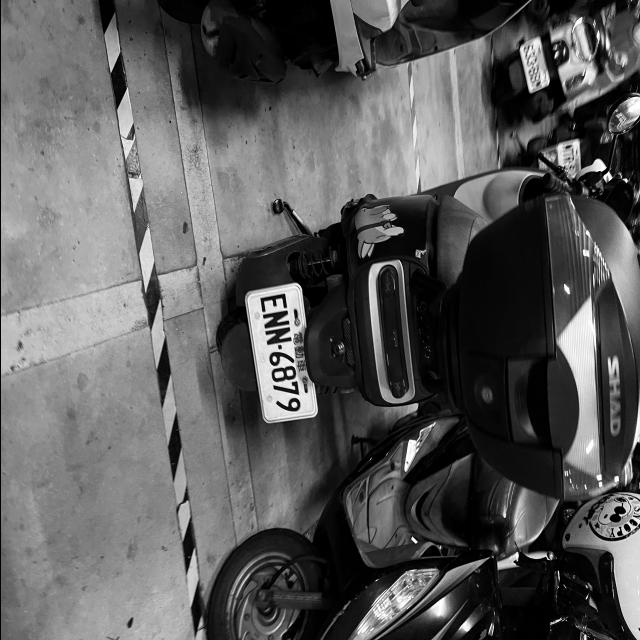-: (276, 344, 281, 351)
6: (265, 352, 296, 369)
7: (271, 381, 299, 397)
8: (269, 364, 297, 384)
9: (274, 396, 301, 414)
E: (517, 35, 548, 93), (256, 291, 289, 315)
N: (260, 308, 290, 330), (262, 326, 292, 346)
plate: (247, 287, 313, 422)
